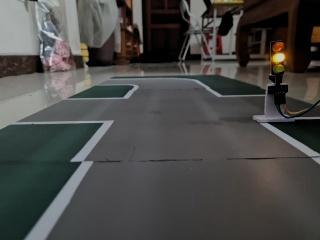yellow: (262, 31, 296, 85)
